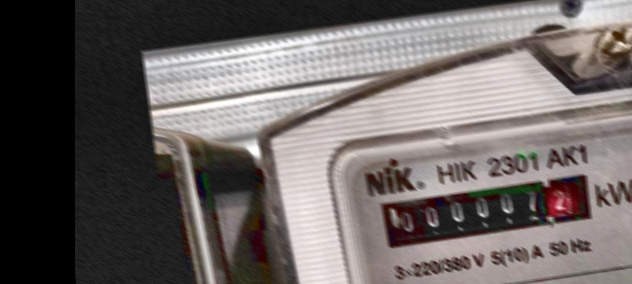0: (398, 207, 415, 233), (474, 194, 491, 219), (449, 199, 465, 223), (498, 190, 514, 214), (424, 204, 439, 227)
2: (552, 187, 567, 211)
7: (524, 187, 539, 212)
screen: (369, 162, 603, 257)
